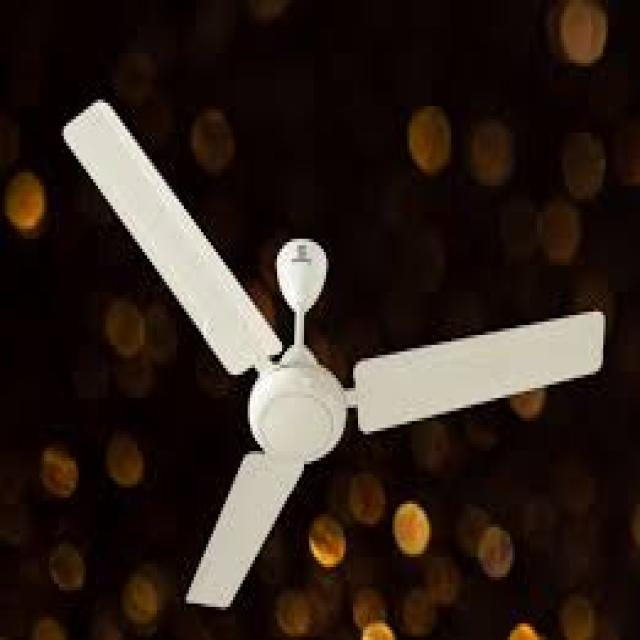fan_off: (59, 100, 596, 610)
